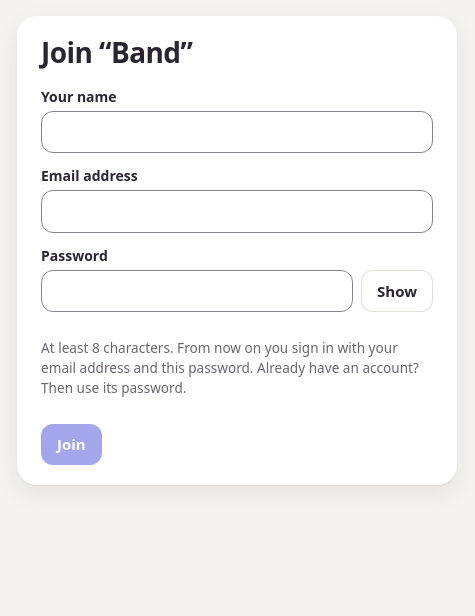
Test: a known address without a password is told to sign in first
Type "Ben" into the field labelled "Your name" at (237, 132), box [41,111,433,153]
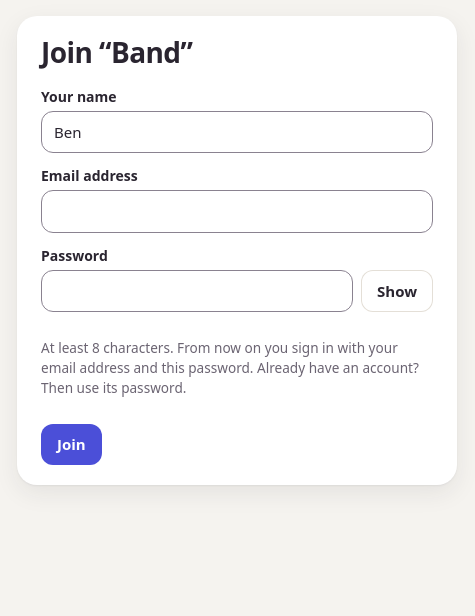
Type "ben@test.de" into the field labelled "Email address" at (237, 211), box [41,190,433,233]
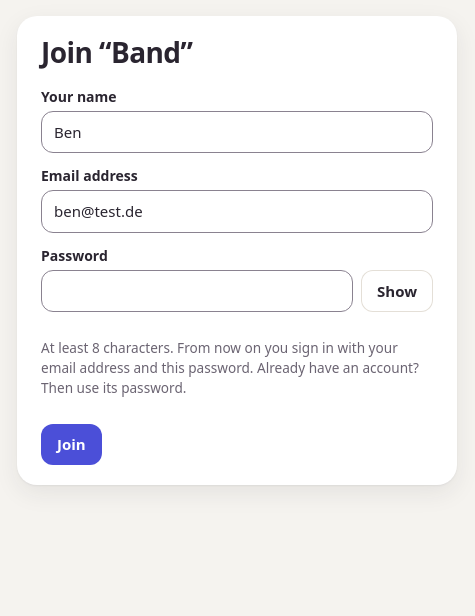
Type "geheim123" into the password field labelled "Password" at (197, 291), box [41,270,353,312]
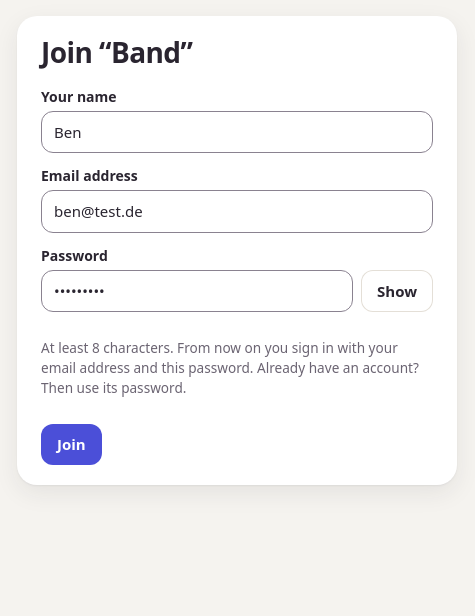
Click the button "Join" at (71, 445), box [41,424,102,465]
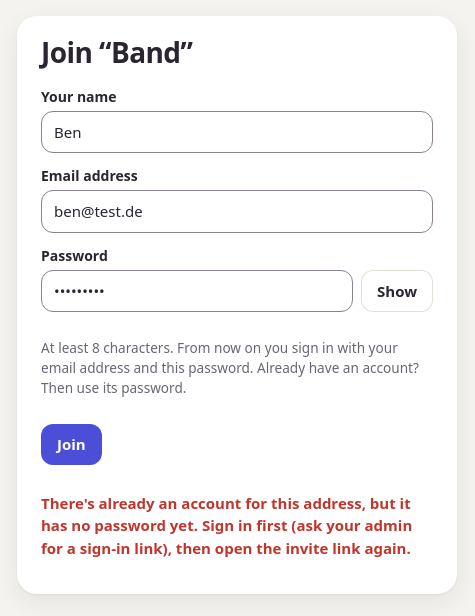
Expected: the message shows "no password yet. Sign in first", [41,493,412,558]
